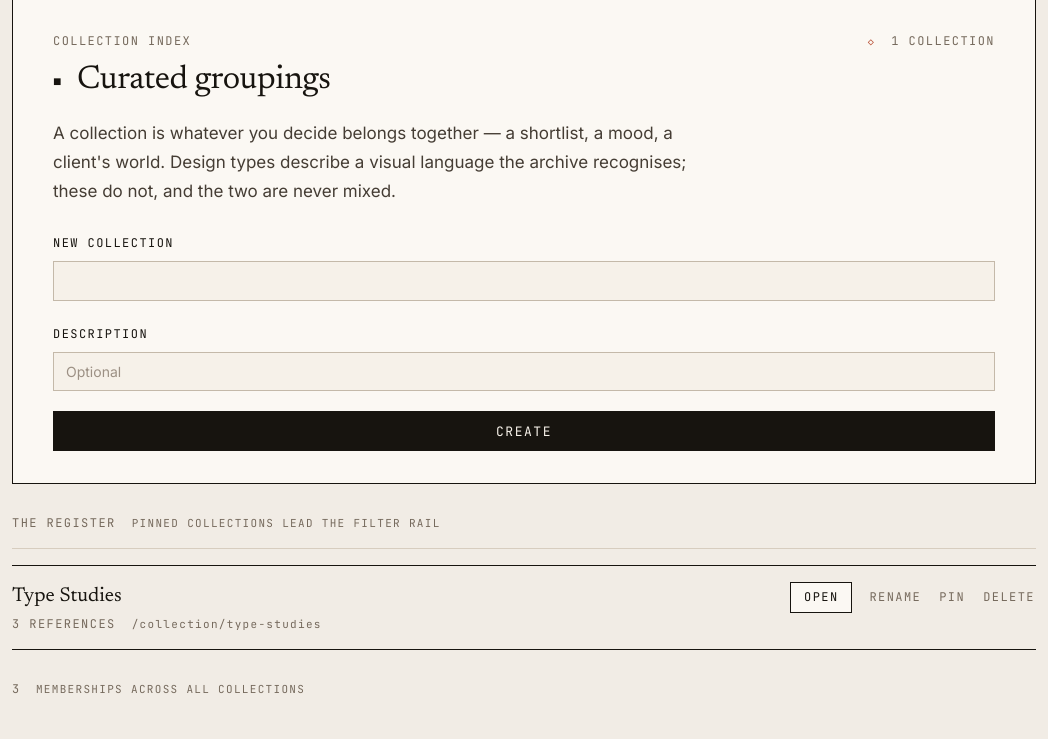
Scenario: renaming a collection › refuses to save an empty name
Expected: the link "Type Studies" is shown, [12, 586, 122, 606]
Click the button "Rename" at (895, 597), box [868, 582, 922, 613]
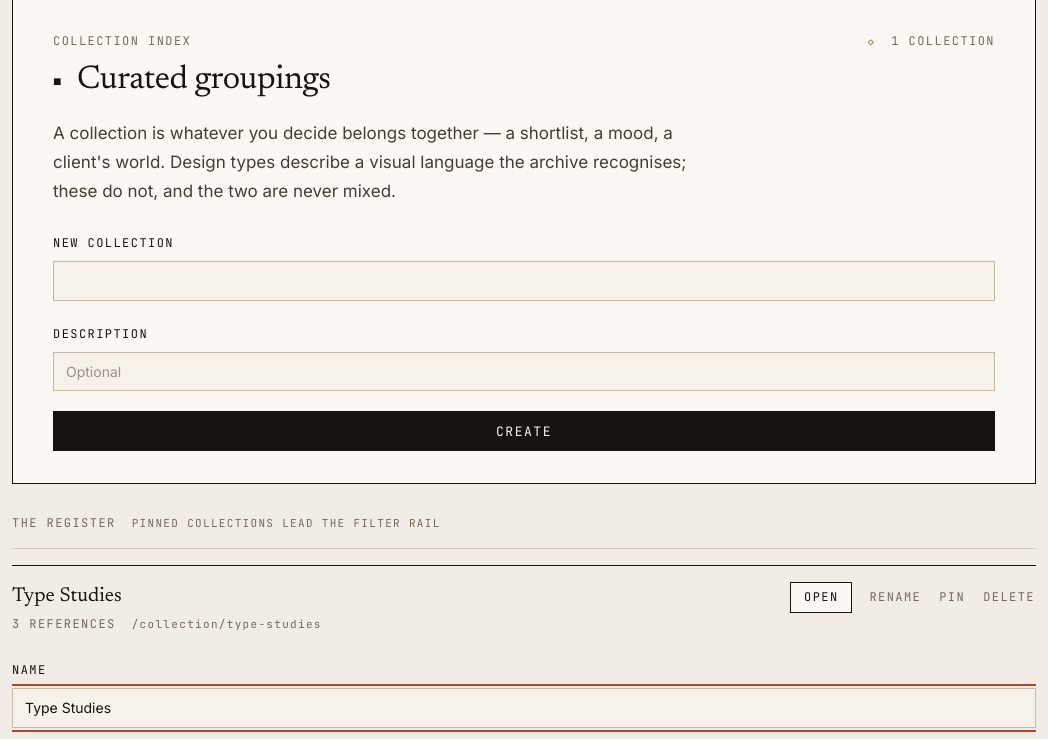
Clear the field labelled "Name" at (524, 708), box [12, 688, 1036, 728]
(page scrolled)
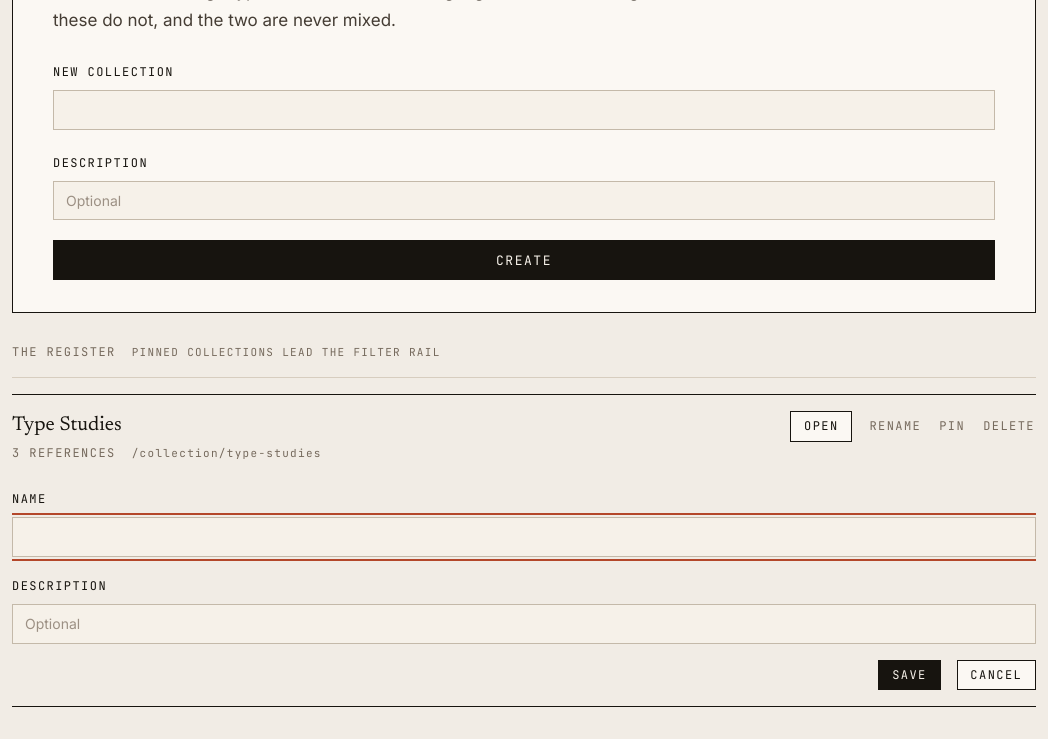
Click the button "Save" at (910, 675), box [878, 660, 941, 690]
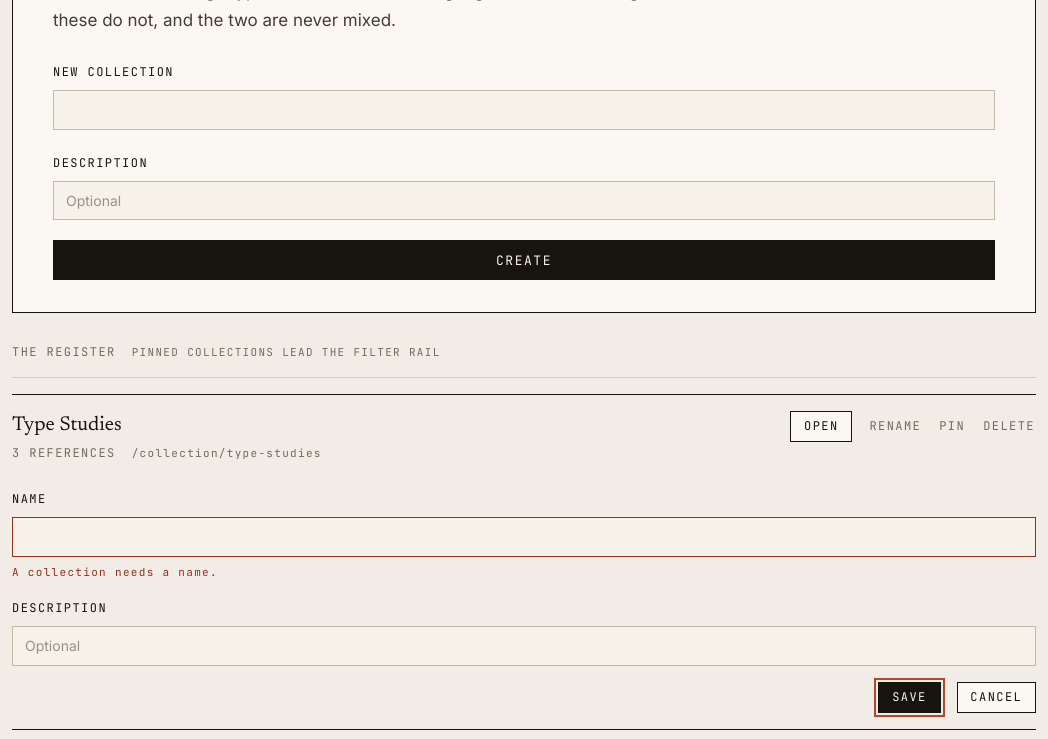
Expected: the text "A collection needs a name." is shown, [12, 565, 218, 579]
